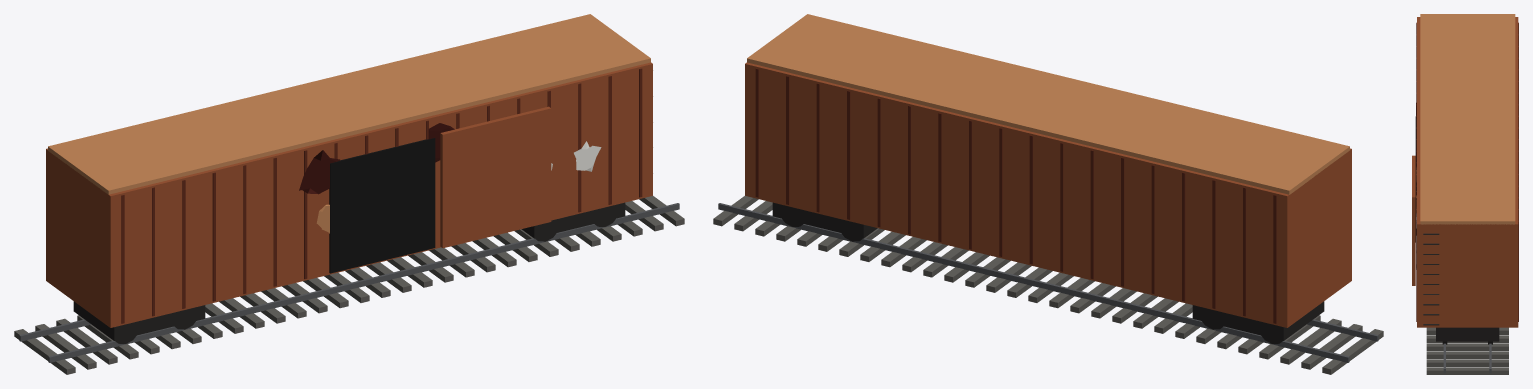
Rendered from works_boxcar.glb.
3 renders of one model, left to right at view 1: azimuth 30°, elevation 25°; view 2: azimuth 150°, elevation 25°; view 3: azimuth 270°, elevation 25°, orthographic. The views are drawn at different scales.
Parts seen in each view (by area): view 1: works_boxcar; view 2: works_boxcar; view 3: works_boxcar.
Part boxes in pixels (<box>): works_boxcar: <box>14,14,684,374</box>; works_boxcar: <box>713,14,1383,374</box>; works_boxcar: <box>1412,14,1518,374</box>.
Bounding box in the file's own units: 18 × 4.86 × 3.38.
